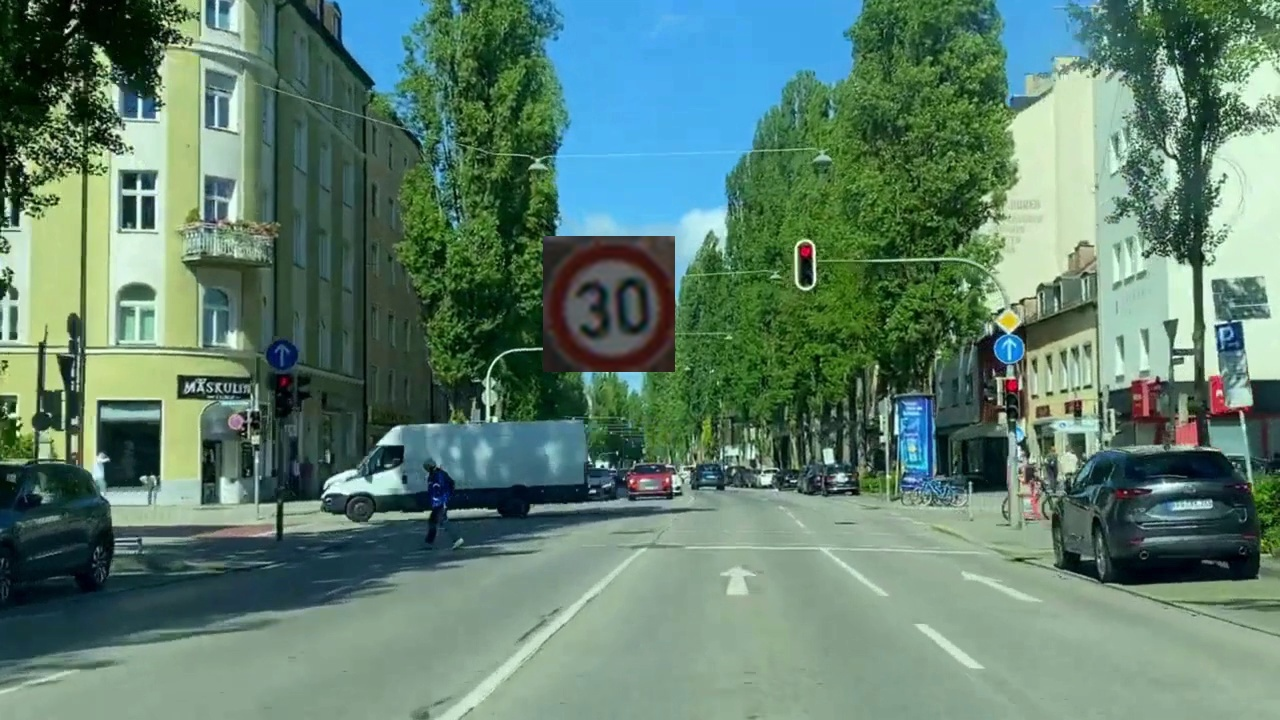Speed 30: (543, 236, 675, 372)
